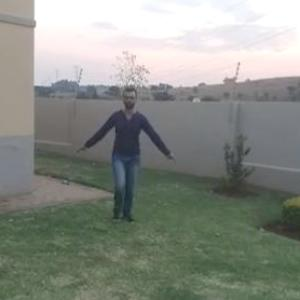land: (78, 85, 182, 219)
